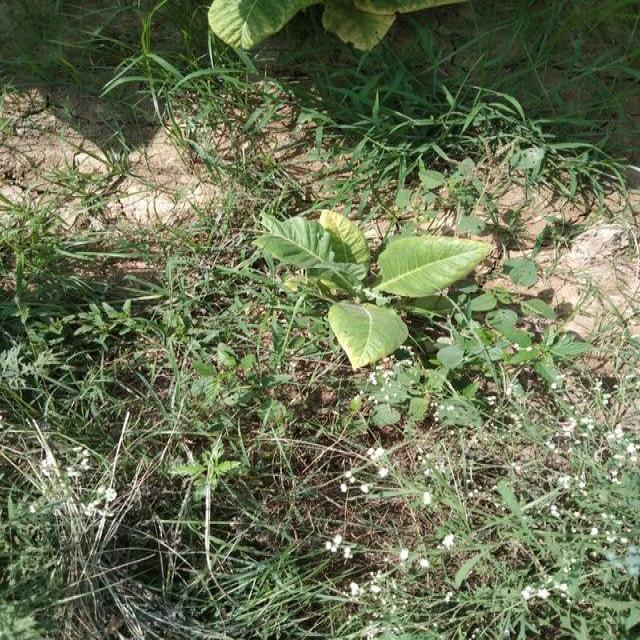crop: (256, 208, 492, 363), (203, 0, 467, 44)
